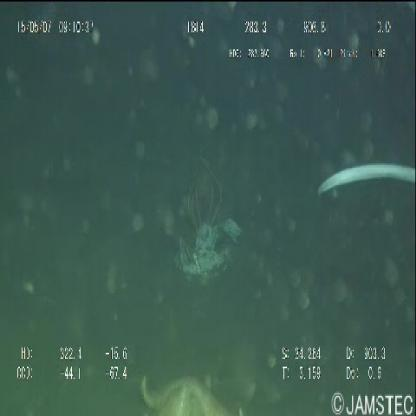Rác: (174, 217, 244, 285)
